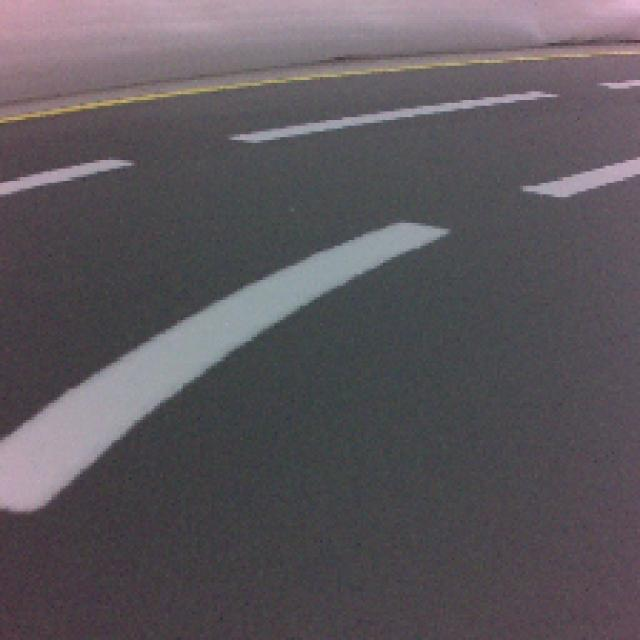Guard rail: (0, 216, 452, 511)
